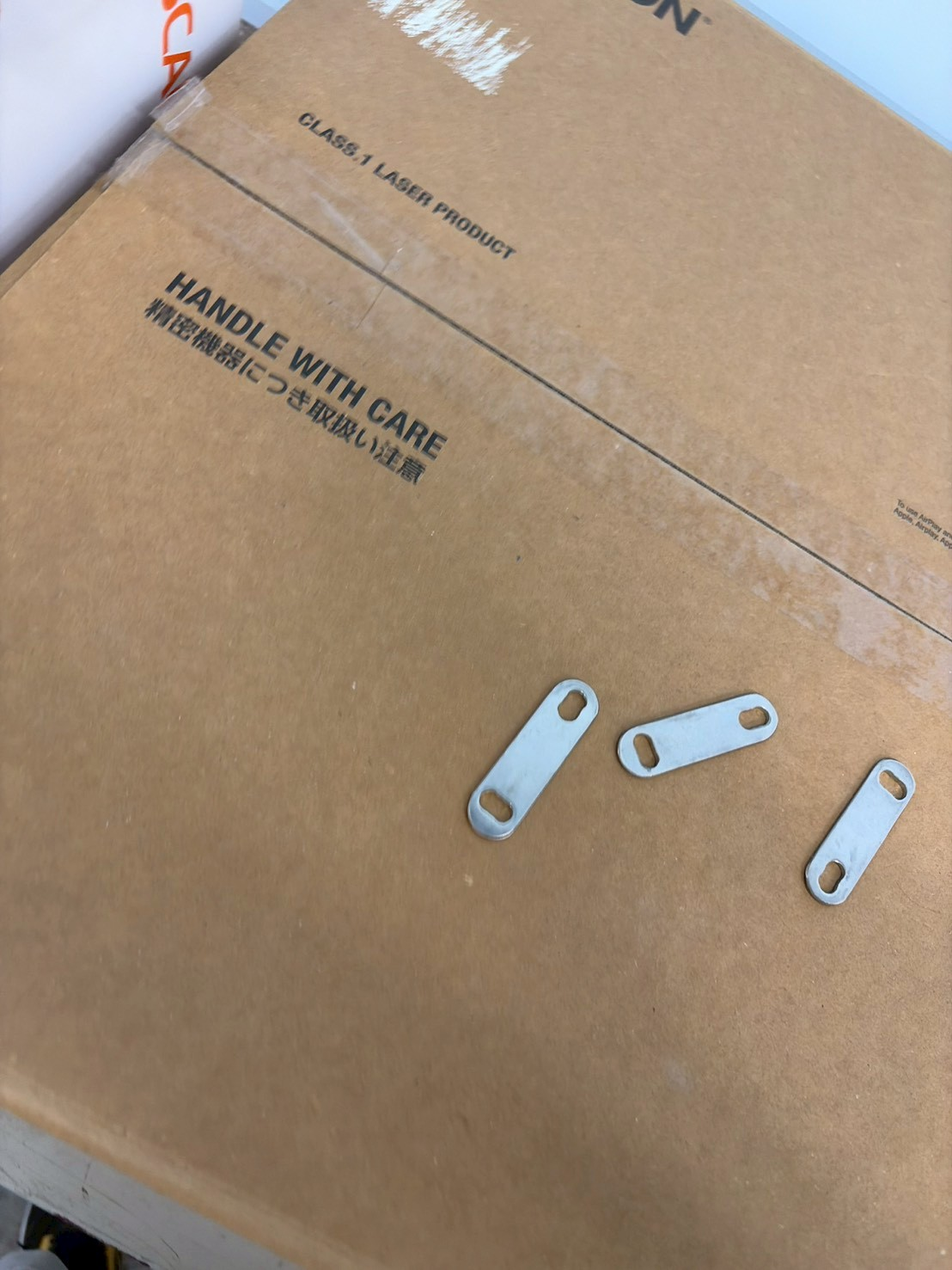Fe: (441, 670, 595, 843), (807, 739, 906, 919), (614, 662, 766, 778)
